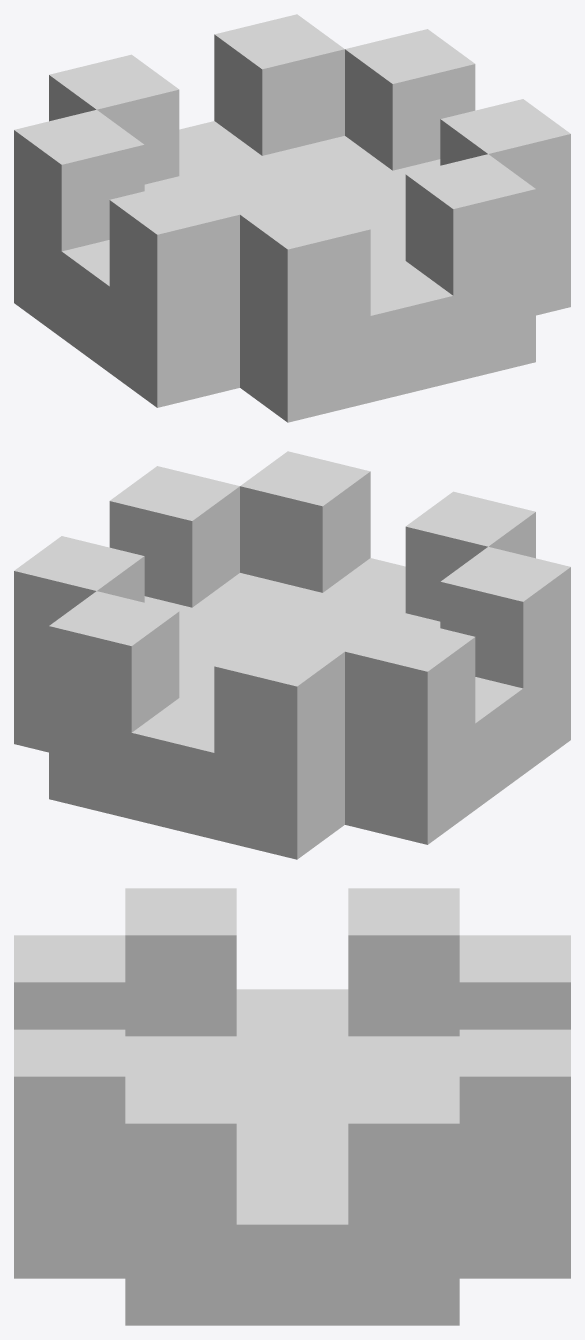
The model's file is ashtray_0_lev1_lev3.glb.
3 renders of one model, top to bottom at view 1: azimuth 30°, elevation 25°; view 2: azimuth 150°, elevation 25°; view 3: azimuth 270°, elevation 25°, orthographic. The views are drawn at different scales.
Visible parts, largest first — view 1: ashtray_0_lev1_lev3; view 2: ashtray_0_lev1_lev3; view 3: ashtray_0_lev1_lev3.
Boxes of the visible parts, box(x1,y1,x2,y2) form: ashtray_0_lev1_lev3: box(14, 14, 570, 422); ashtray_0_lev1_lev3: box(14, 451, 570, 859); ashtray_0_lev1_lev3: box(14, 888, 570, 1325).
Size of the model in its own units: 0.3736 by 0.1495 by 0.3736.
1 material, 1 textured.
